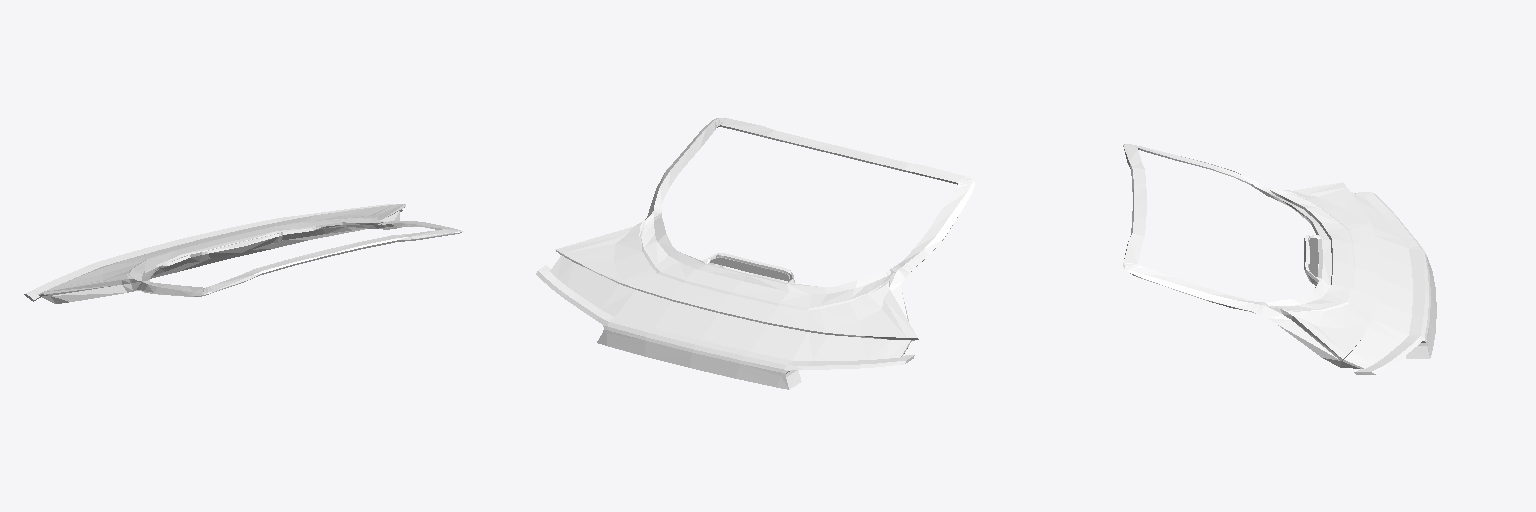
The model's file is sbrc_tailgate.obj.
3 views of the same model, side by side, from view 1: azimuth 30°, elevation 25°; view 2: azimuth 150°, elevation 25°; view 3: azimuth 270°, elevation 25° (orthographic).
Visible parts, largest first — view 1: sbrc_tailgate; view 2: sbrc_tailgate, sbrc_chmsl; view 3: sbrc_tailgate.
Part boxes in pixels (x1,y1,x2,y2): sbrc_tailgate: (24, 204, 462, 303); sbrc_tailgate: (536, 118, 974, 389); sbrc_chmsl: (710, 258, 789, 281); sbrc_tailgate: (1123, 144, 1436, 374).
Bounding box in the file's own units: 1.36 × 0.3927 × 0.9999.